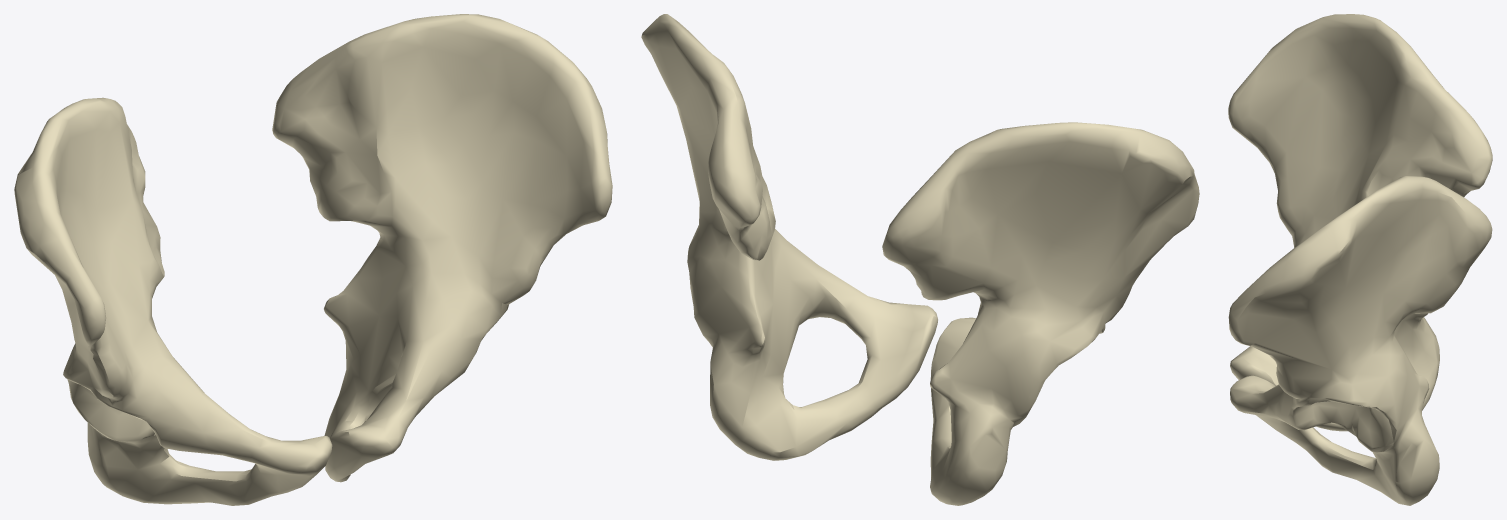
The model's file is pelvis.glb.
3 views of the same model, side by side, from view 1: azimuth 30°, elevation 25°; view 2: azimuth 150°, elevation 25°; view 3: azimuth 270°, elevation 25° (orthographic). The views are drawn at different scales.
Parts seen in each view (by area): view 1: Pelvis; view 2: Pelvis; view 3: Pelvis.
Part boxes in pixels (left/top/right/bottom): Pelvis: left=14, top=14, right=612, bottom=505; Pelvis: left=641, top=14, right=1199, bottom=505; Pelvis: left=1228, top=14, right=1492, bottom=505.
Bounding box in the file's own units: 0.2896 × 0.2059 × 0.1379.
